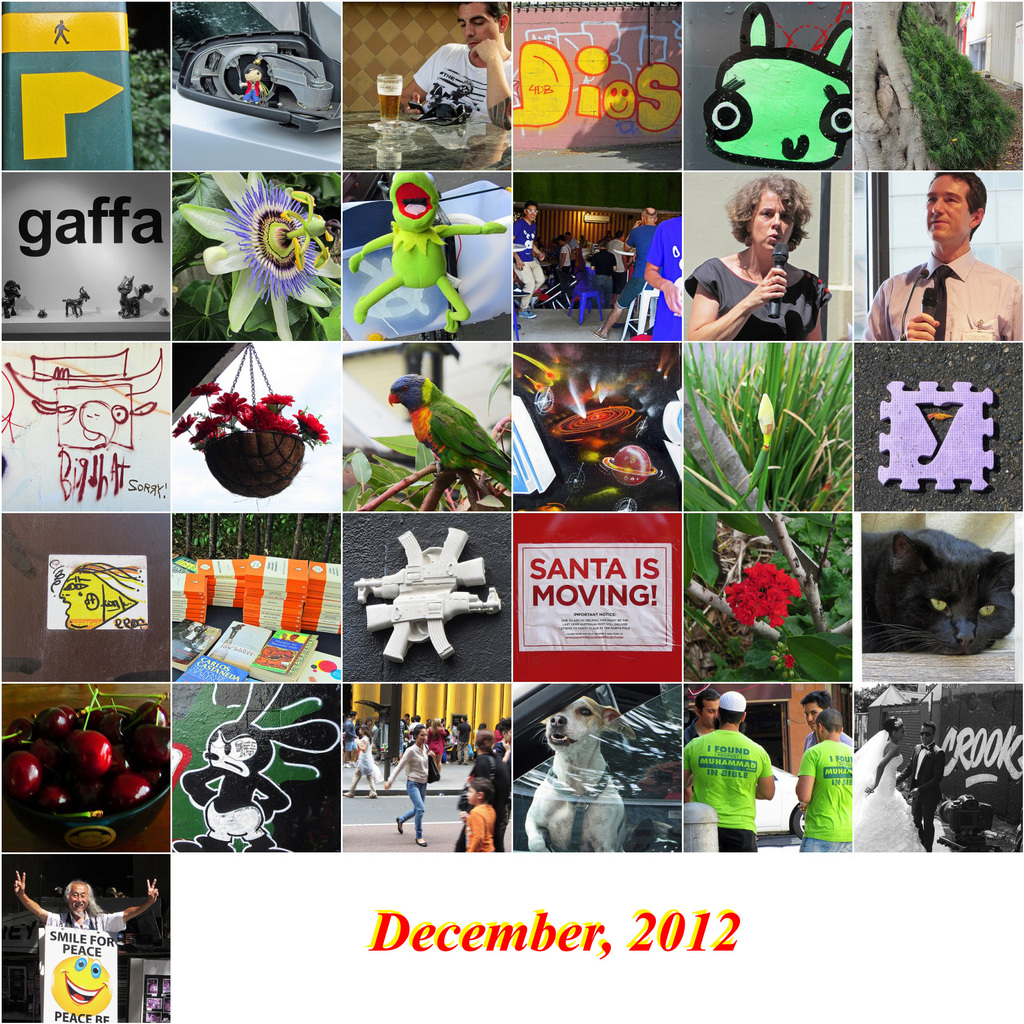Person: (854, 712, 927, 855), (896, 723, 945, 851)
